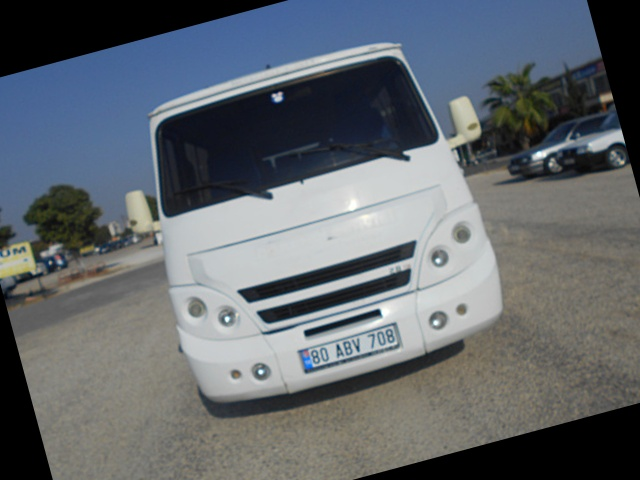plaka: (298, 325, 405, 367)
